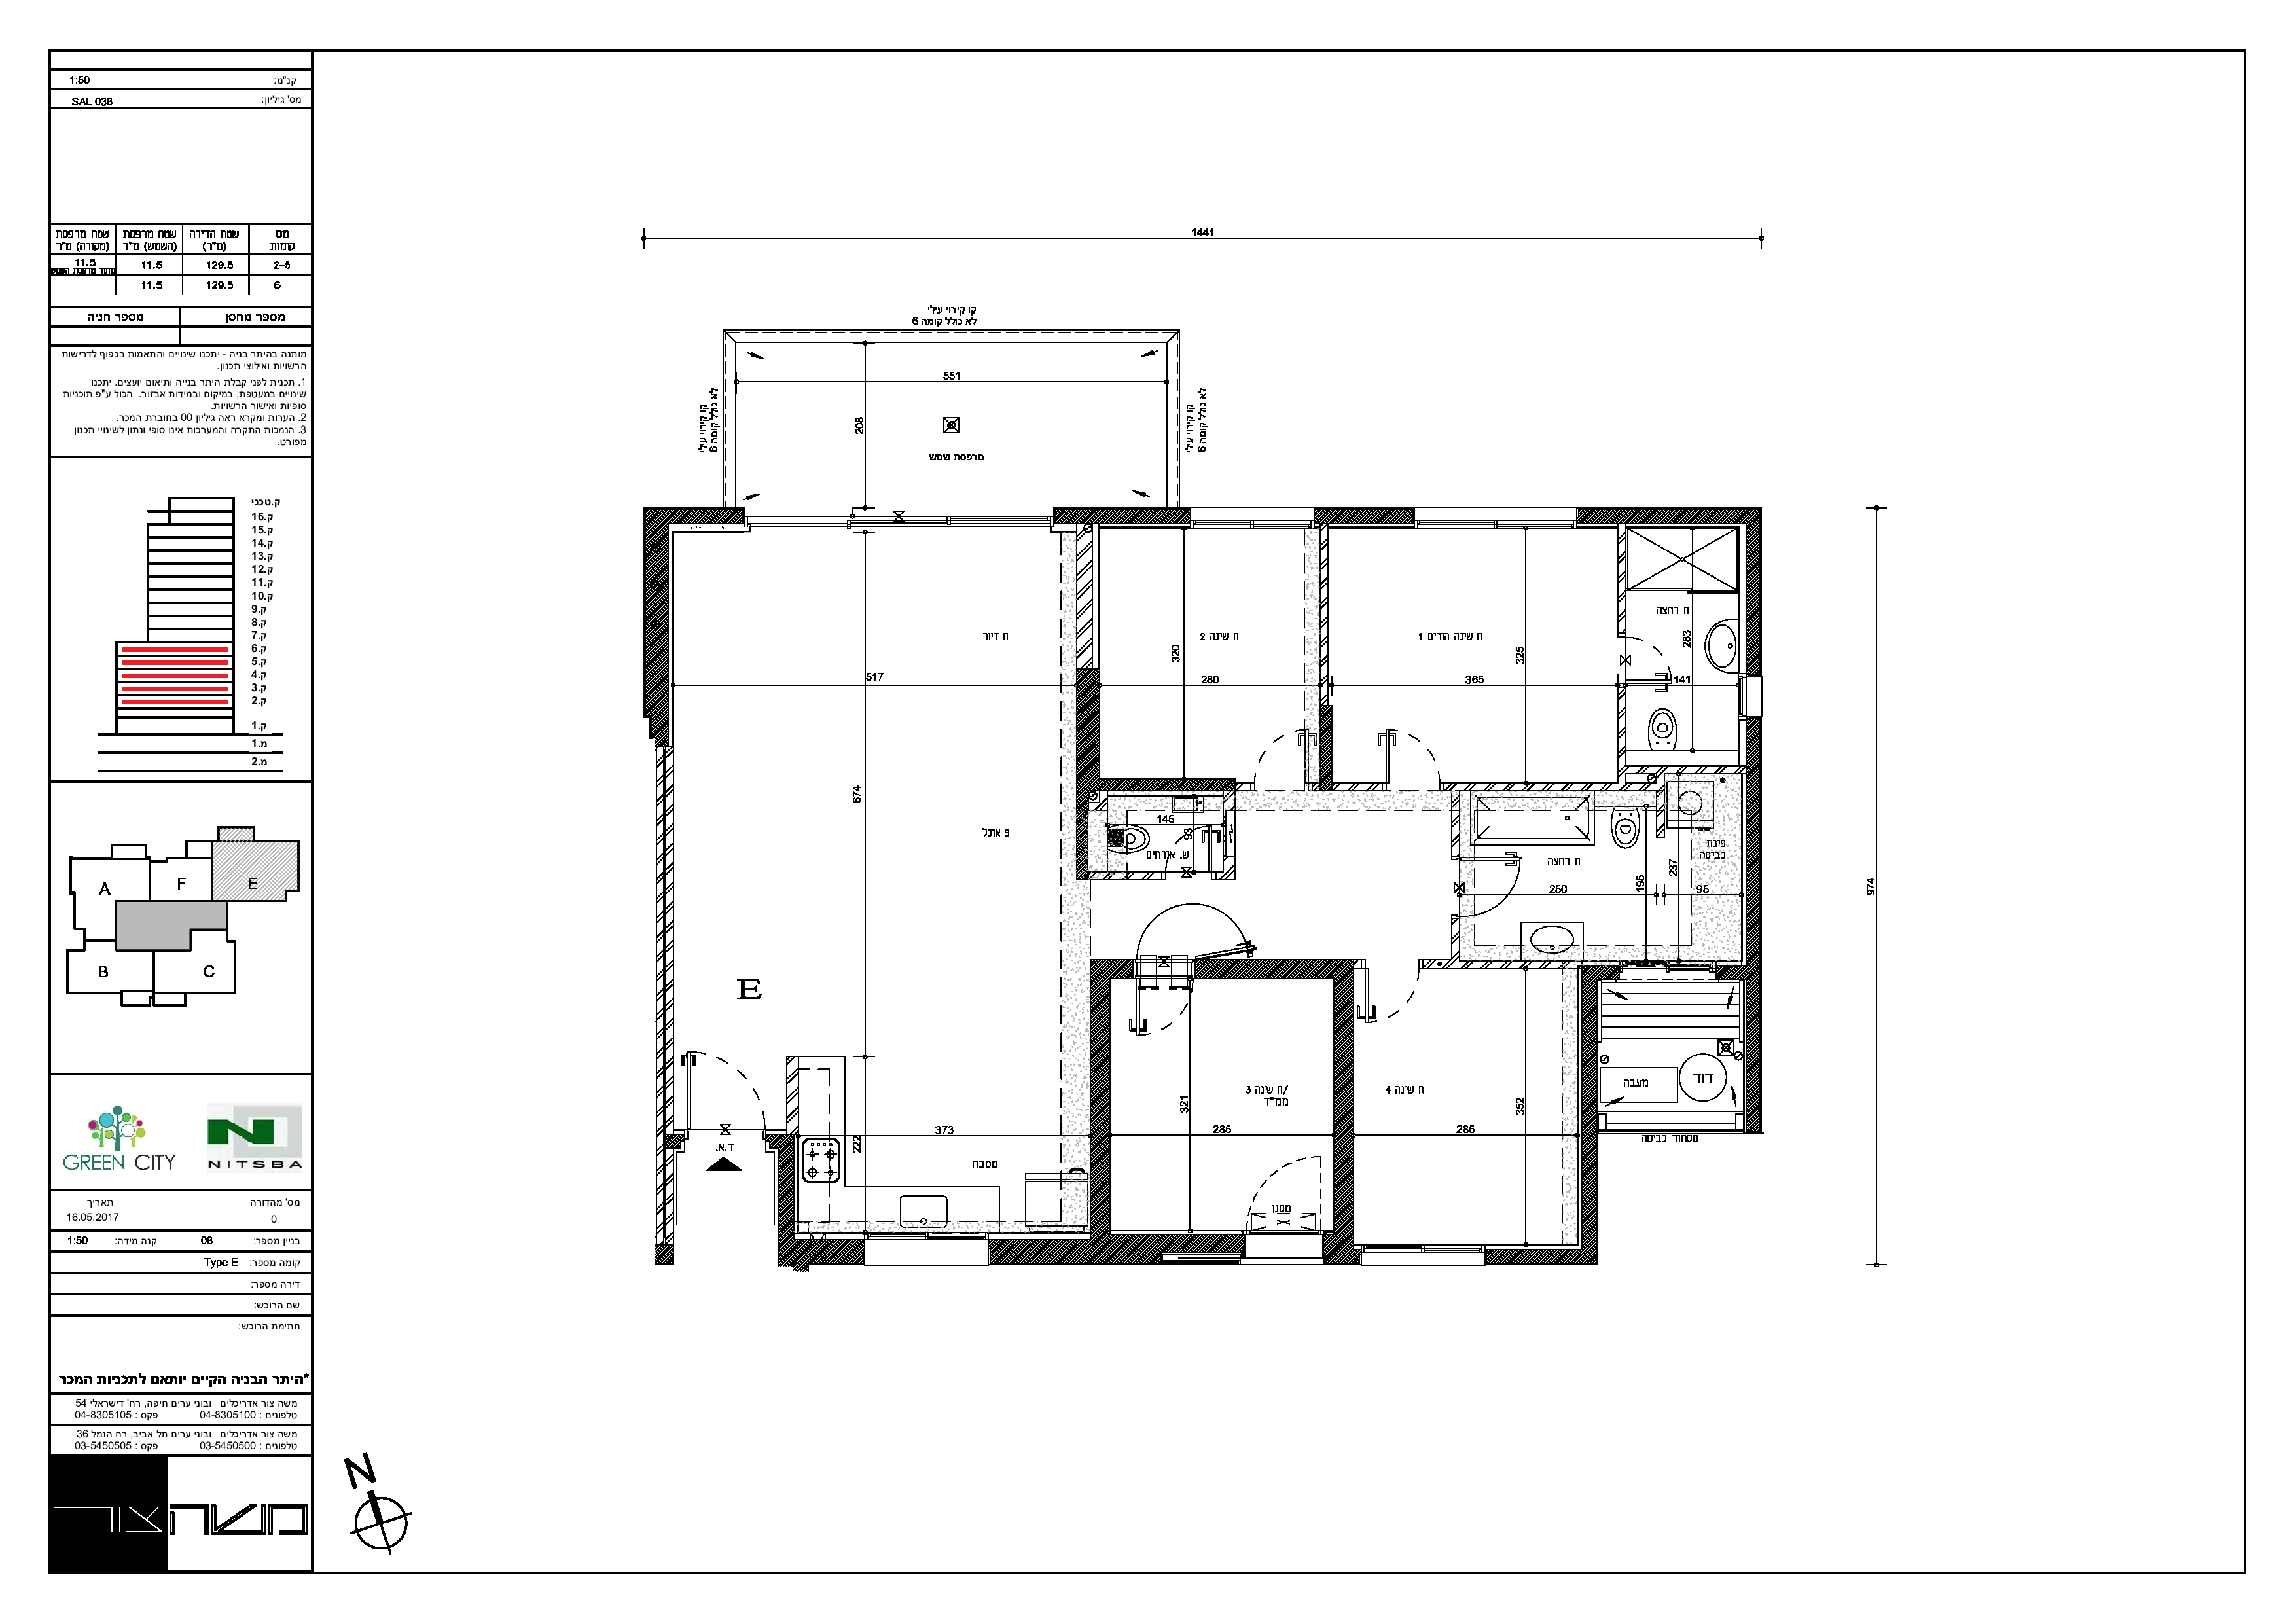door: (680, 1042, 768, 1125), (1363, 714, 1453, 779), (1235, 1146, 1328, 1206), (1363, 974, 1437, 1032), (1123, 993, 1205, 1044), (1472, 852, 1532, 921)
wall: (655, 749, 673, 1137), (1091, 960, 1112, 1260), (1335, 961, 1354, 1265), (1746, 717, 1760, 1128), (1581, 968, 1597, 1262), (991, 1237, 1159, 1262), (646, 508, 666, 715), (1075, 670, 1100, 789), (1590, 508, 1757, 524), (1746, 508, 1762, 671), (1202, 958, 1333, 977), (778, 1137, 794, 1267), (1319, 707, 1330, 786)
window: (1414, 490, 1578, 540), (864, 1227, 989, 1285), (1360, 1230, 1486, 1285), (1189, 496, 1316, 538), (1600, 1106, 1746, 1137)
